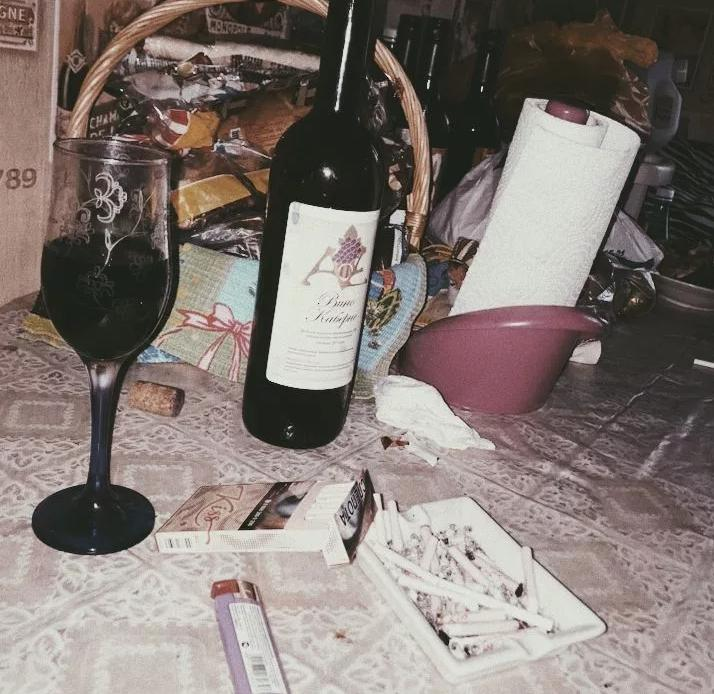wine bottle: (239, 0, 385, 451)
wine label: (265, 198, 382, 394)
